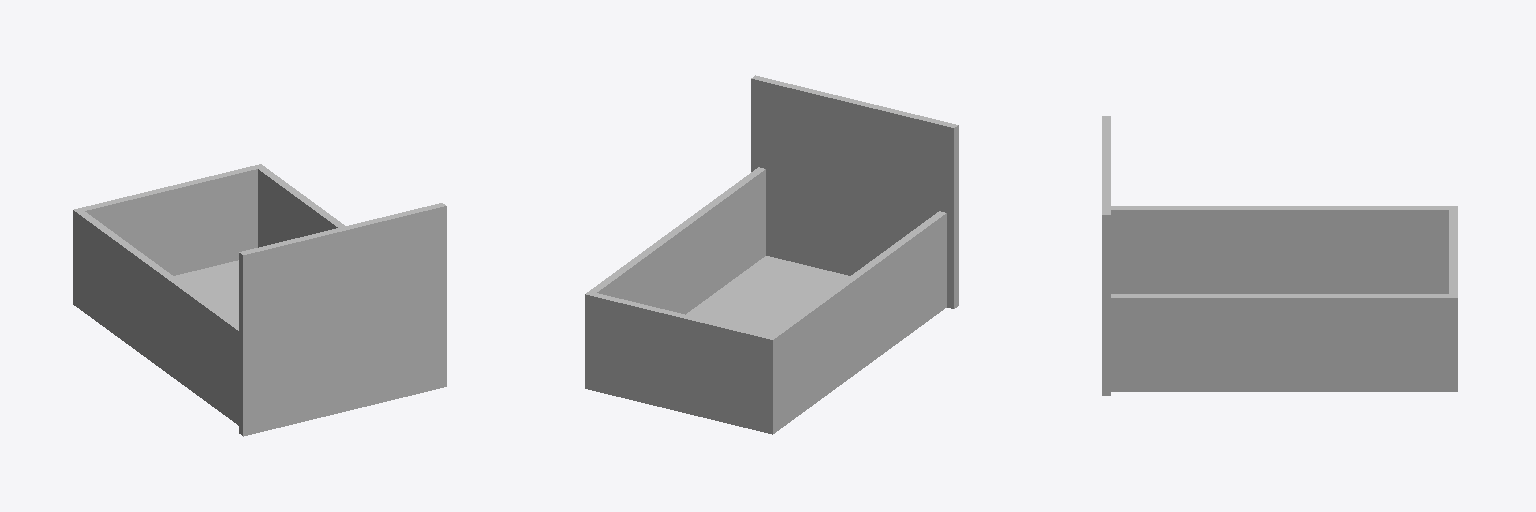
The model's file is KitchenOPEN_Export-32.obj.
3 views of the same model, side by side, from view 1: azimuth 30°, elevation 25°; view 2: azimuth 150°, elevation 25°; view 3: azimuth 270°, elevation 25° (orthographic).
Parts seen in each view (by area): view 1: KitchenOPEN_Export-32; view 2: KitchenOPEN_Export-32; view 3: KitchenOPEN_Export-32.
Part boxes in pixels (x1,y1,x2,y2): KitchenOPEN_Export-32: (73, 164, 446, 436); KitchenOPEN_Export-32: (585, 75, 958, 434); KitchenOPEN_Export-32: (1102, 116, 1457, 395).
Size of the model in its own units: 27 by 23 by 41.